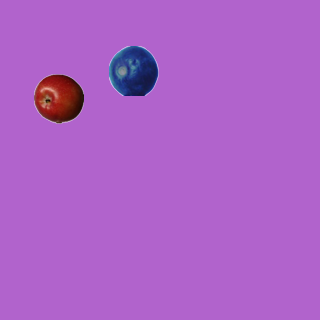Apple Braeburn: (33, 73, 83, 123)
Huckleberry: (108, 45, 158, 95)
